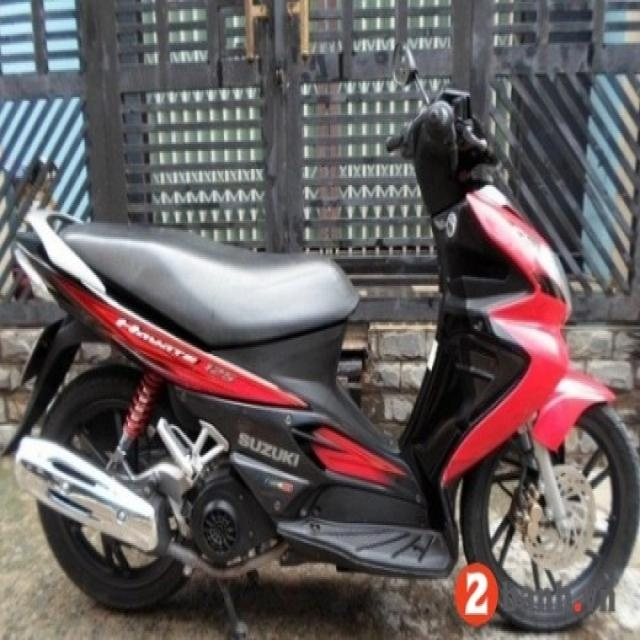Motorcycle: (0, 36, 640, 640)
